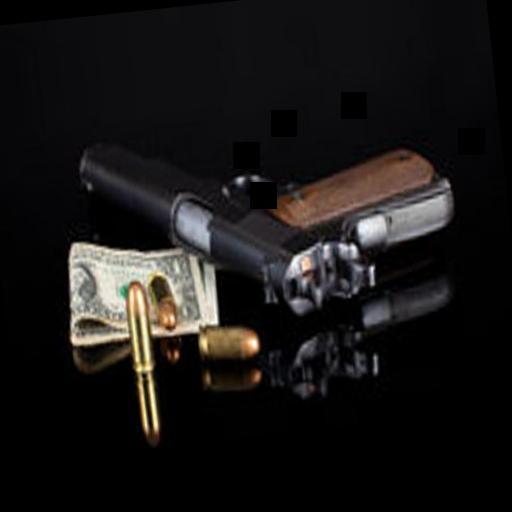Handgun: (71, 102, 466, 332)
